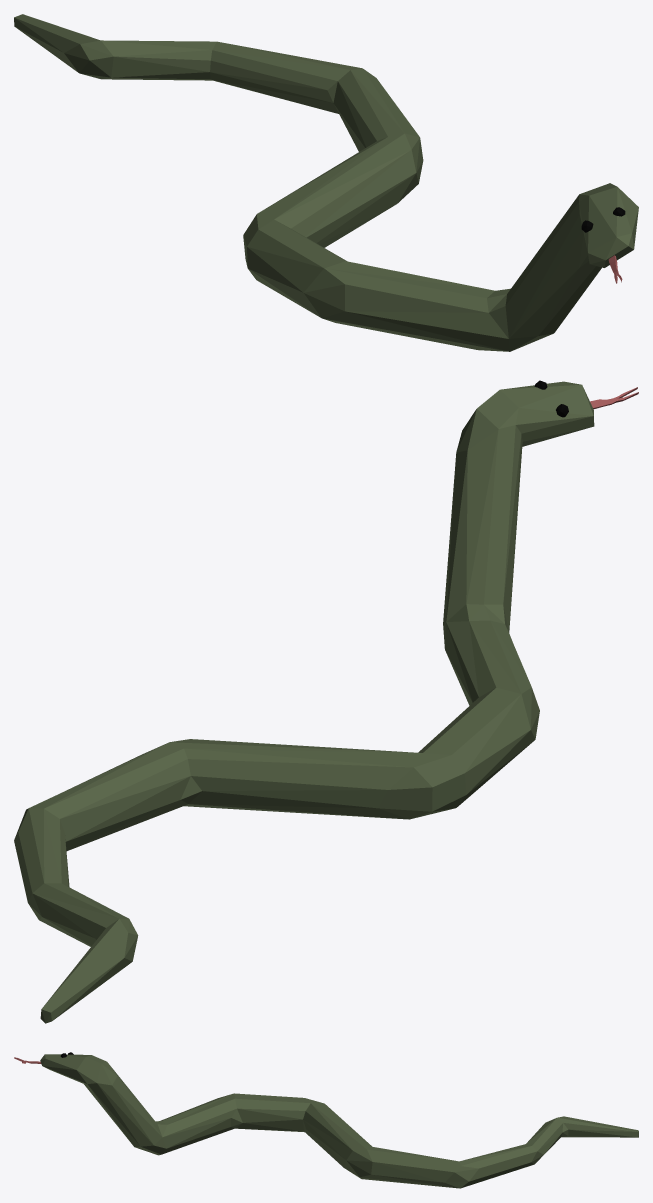
Rendered from Viper.fbx.
3 renders of one model, top to bottom at view 1: azimuth 30°, elevation 25°; view 2: azimuth 150°, elevation 25°; view 3: azimuth 270°, elevation 25°, orthographic. The views are drawn at different scales.
Parts seen in each view (by area): view 1: Viper; view 2: Viper; view 3: Viper.
Part boxes in pixels (bbox=[...]): Viper: bbox=[14, 14, 638, 351]; Viper: bbox=[14, 381, 594, 1023]; Viper: bbox=[40, 1054, 638, 1188].
Size of the model in its own units: 236 by 173 by 871.
